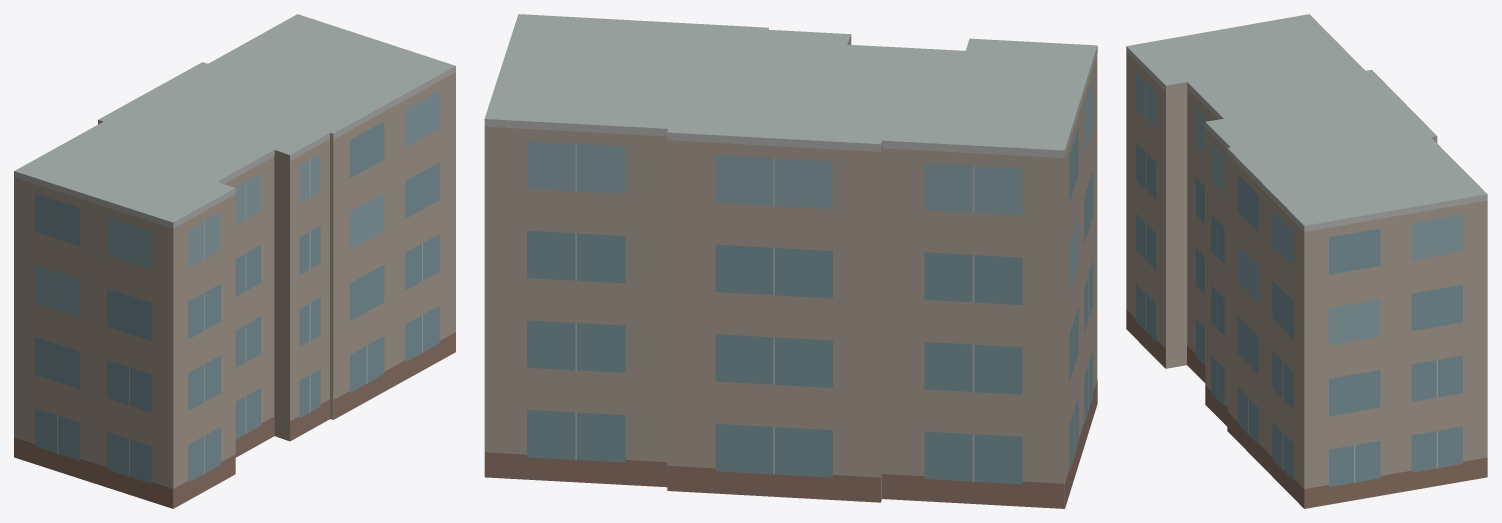
File: survey-upis-32700133.glb
3 renders of one model, left to right at view 1: azimuth 30°, elevation 25°; view 2: azimuth 150°, elevation 25°; view 3: azimuth 270°, elevation 25°, orthographic. The views are drawn at different scales.
Visible parts, largest first — view 1: survey-upis-32700133.tmp; view 2: survey-upis-32700133.tmp; view 3: survey-upis-32700133.tmp.
Boxes of the visible parts, x1,y1,x2,y2 form: survey-upis-32700133.tmp: (14, 14, 455, 508); survey-upis-32700133.tmp: (484, 14, 1097, 508); survey-upis-32700133.tmp: (1126, 14, 1487, 508).
Bounding box in the file's own units: 18.23 × 11.35 × 13.14.
